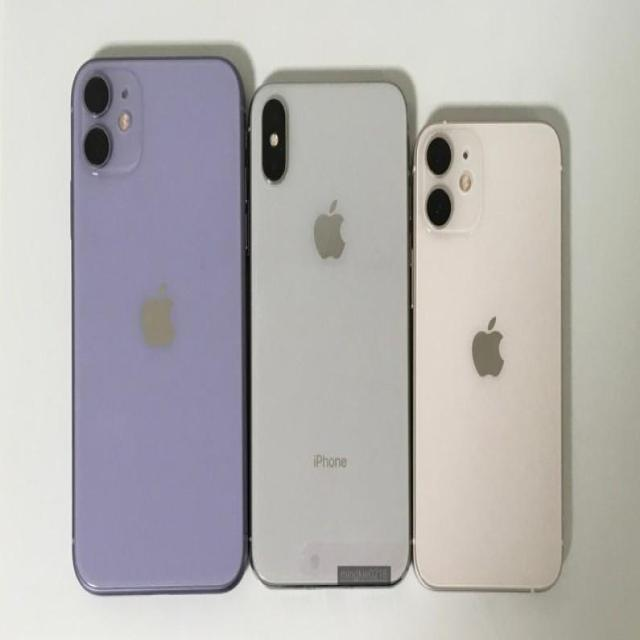lens: (425, 130, 483, 232), (80, 75, 140, 167), (262, 96, 288, 186)
phone: (65, 55, 246, 606), (250, 80, 414, 588), (408, 122, 562, 610)
